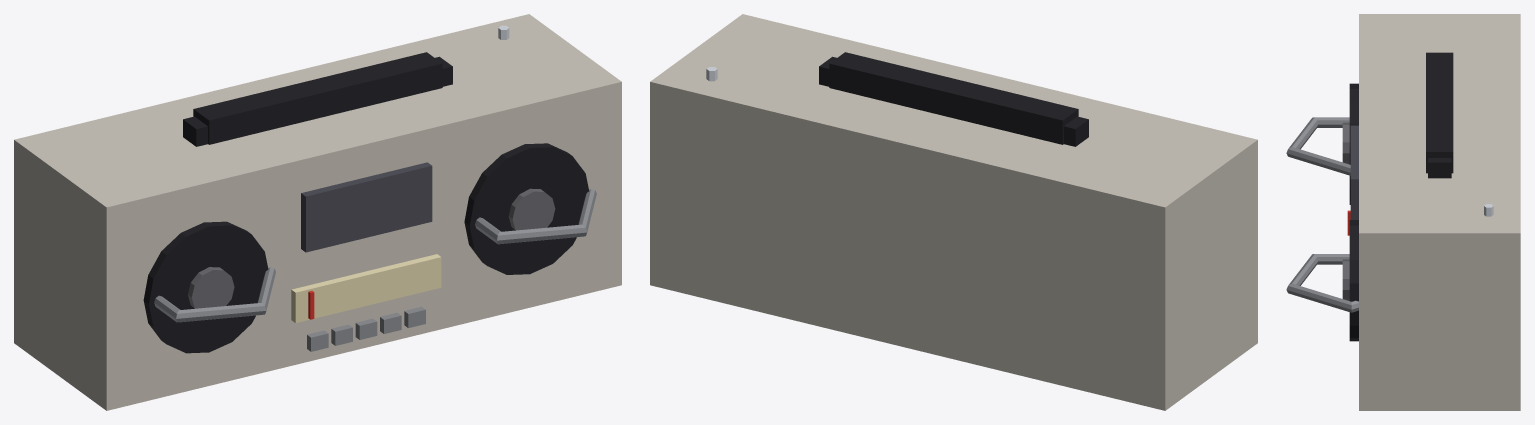
Rendered from boombox.glb.
The picture shows the model from 3 angles, left to right: view 1: azimuth 30°, elevation 25°; view 2: azimuth 150°, elevation 25°; view 3: azimuth 270°, elevation 25°; orthographic projection. The views are drawn at different scales.
Visible parts, largest first — view 1: boombox; view 2: boombox; view 3: boombox.
Boxes of the visible parts, left/top/right/bottom form: boombox: left=14, top=14, right=621, bottom=410; boombox: left=650, top=14, right=1257, bottom=410; boombox: left=1286, top=14, right=1520, bottom=410.
Size of the model in its own units: 0.53 by 0.224 by 0.2391.
